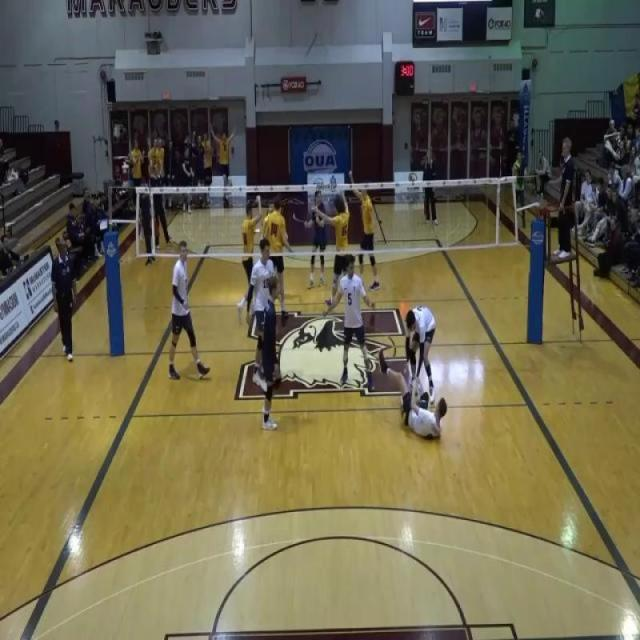volleyball: (401, 408, 408, 427), (513, 162, 520, 174)
